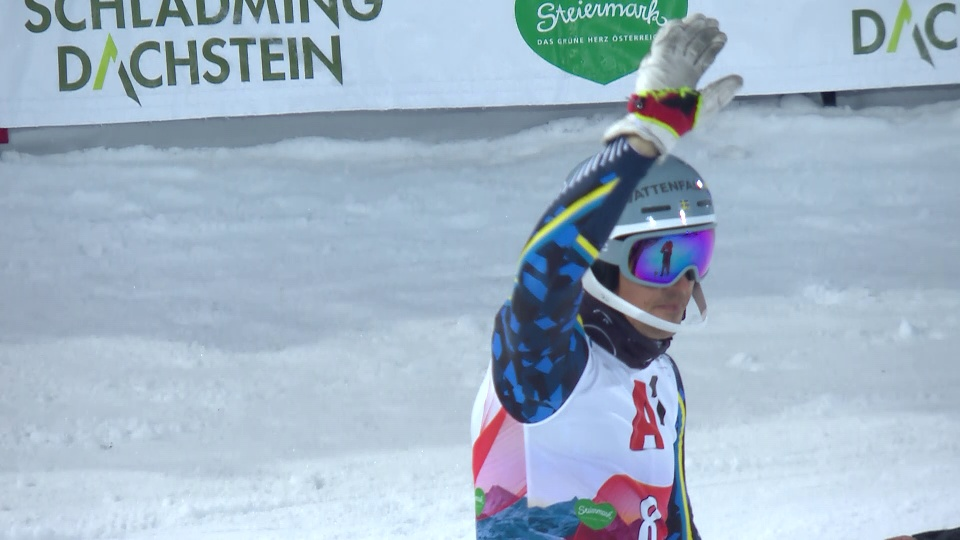a1: (626, 376, 674, 453)
schladming: (21, 1, 363, 91)
steiermark: (508, 1, 681, 88), (572, 497, 620, 534)
